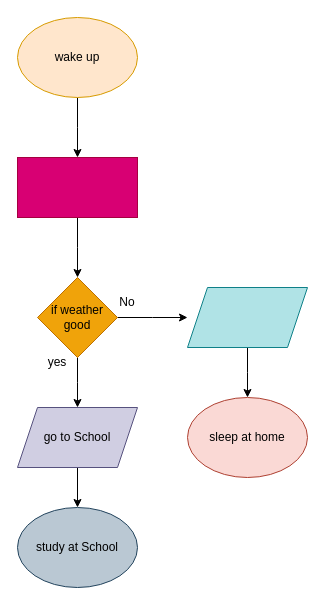
Some shapes in this 325 by 605 pixel diagram are drawn without their labels. The box of each missing label's shape, as (x1, y1, x2, y2) in pixels:
fresh + breakfast: (16, 156, 138, 218)
Stay at home: (186, 286, 308, 348)
